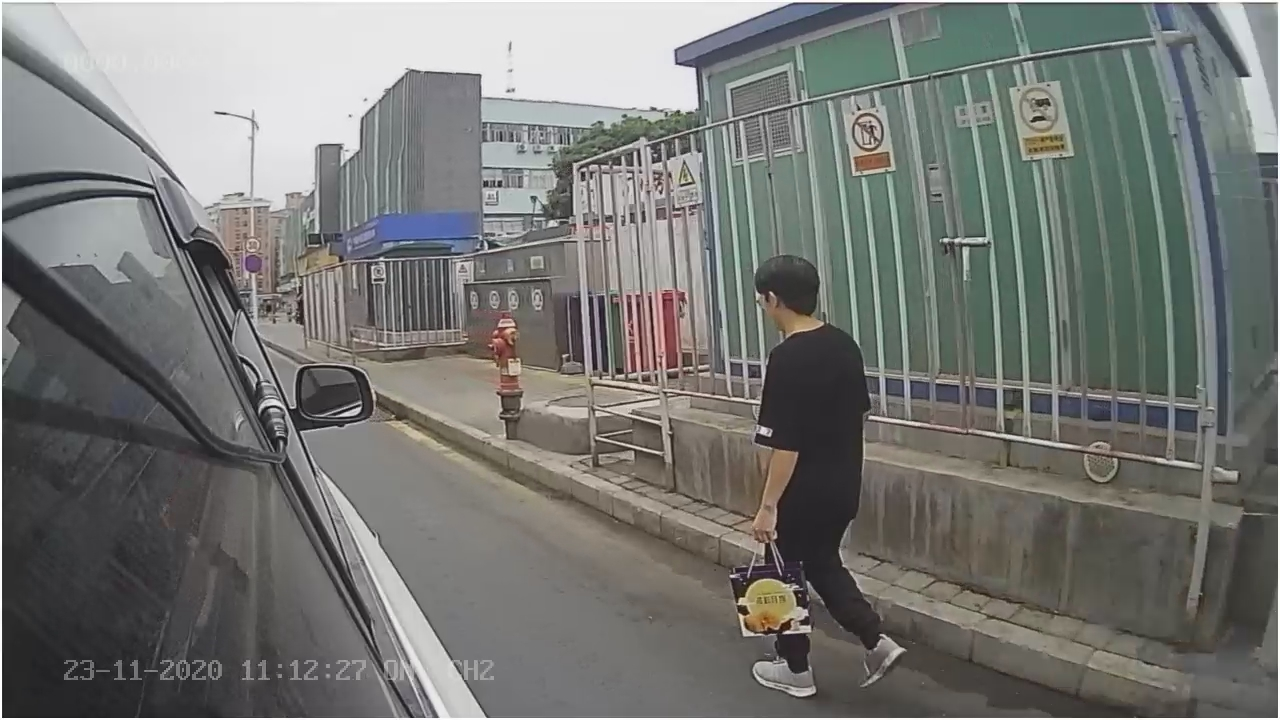person: (720, 253, 909, 701)
